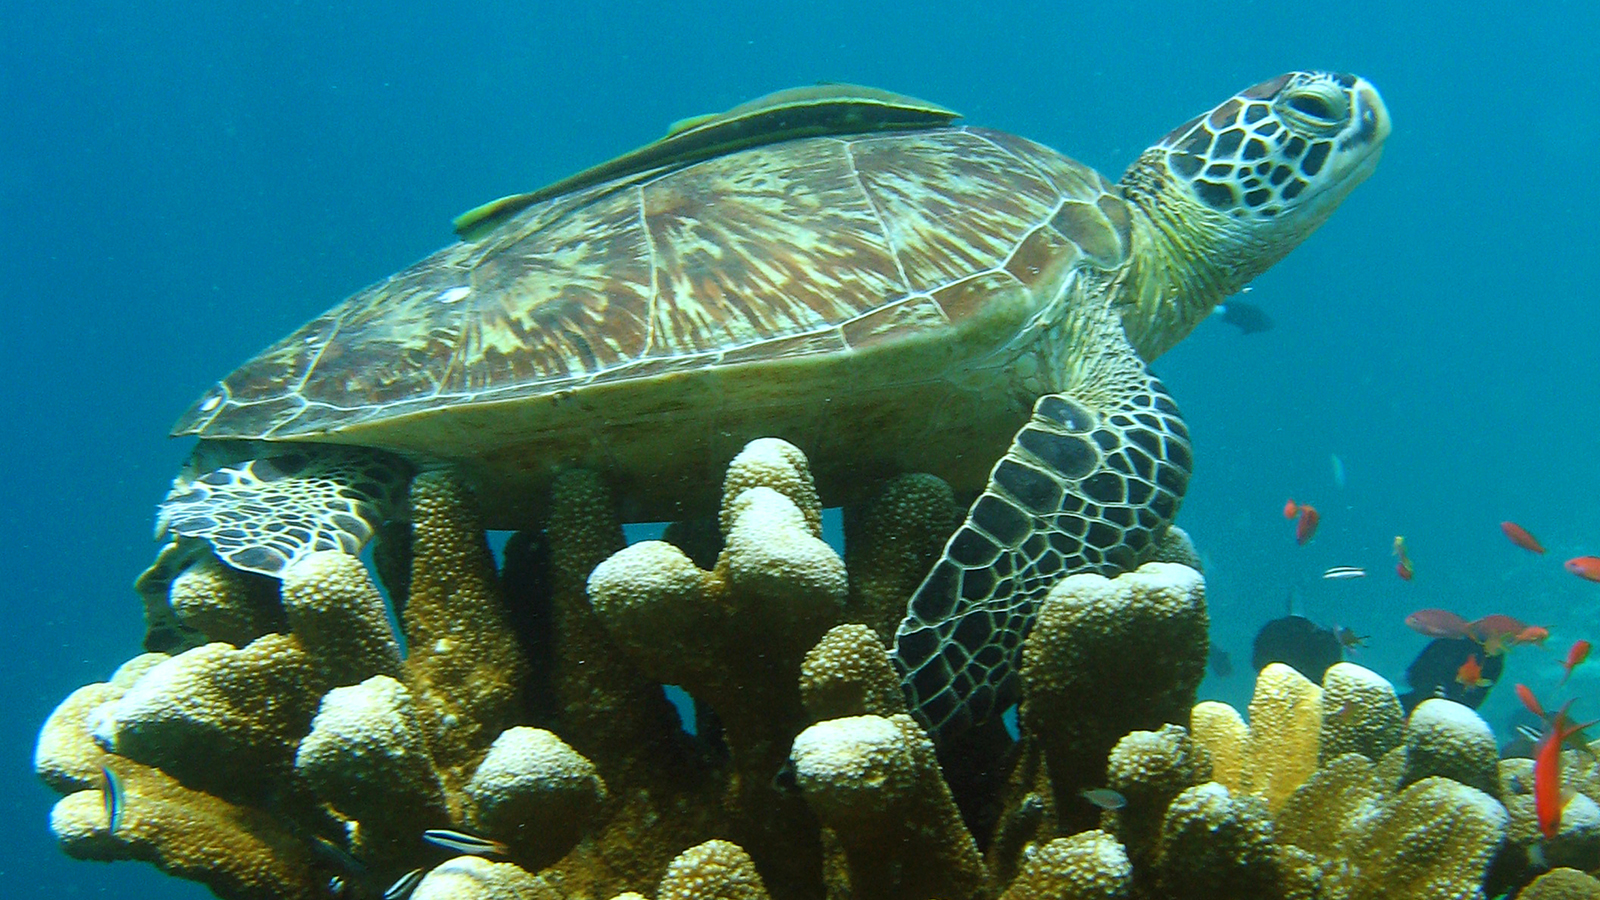trutle: (163, 49, 1437, 640)
